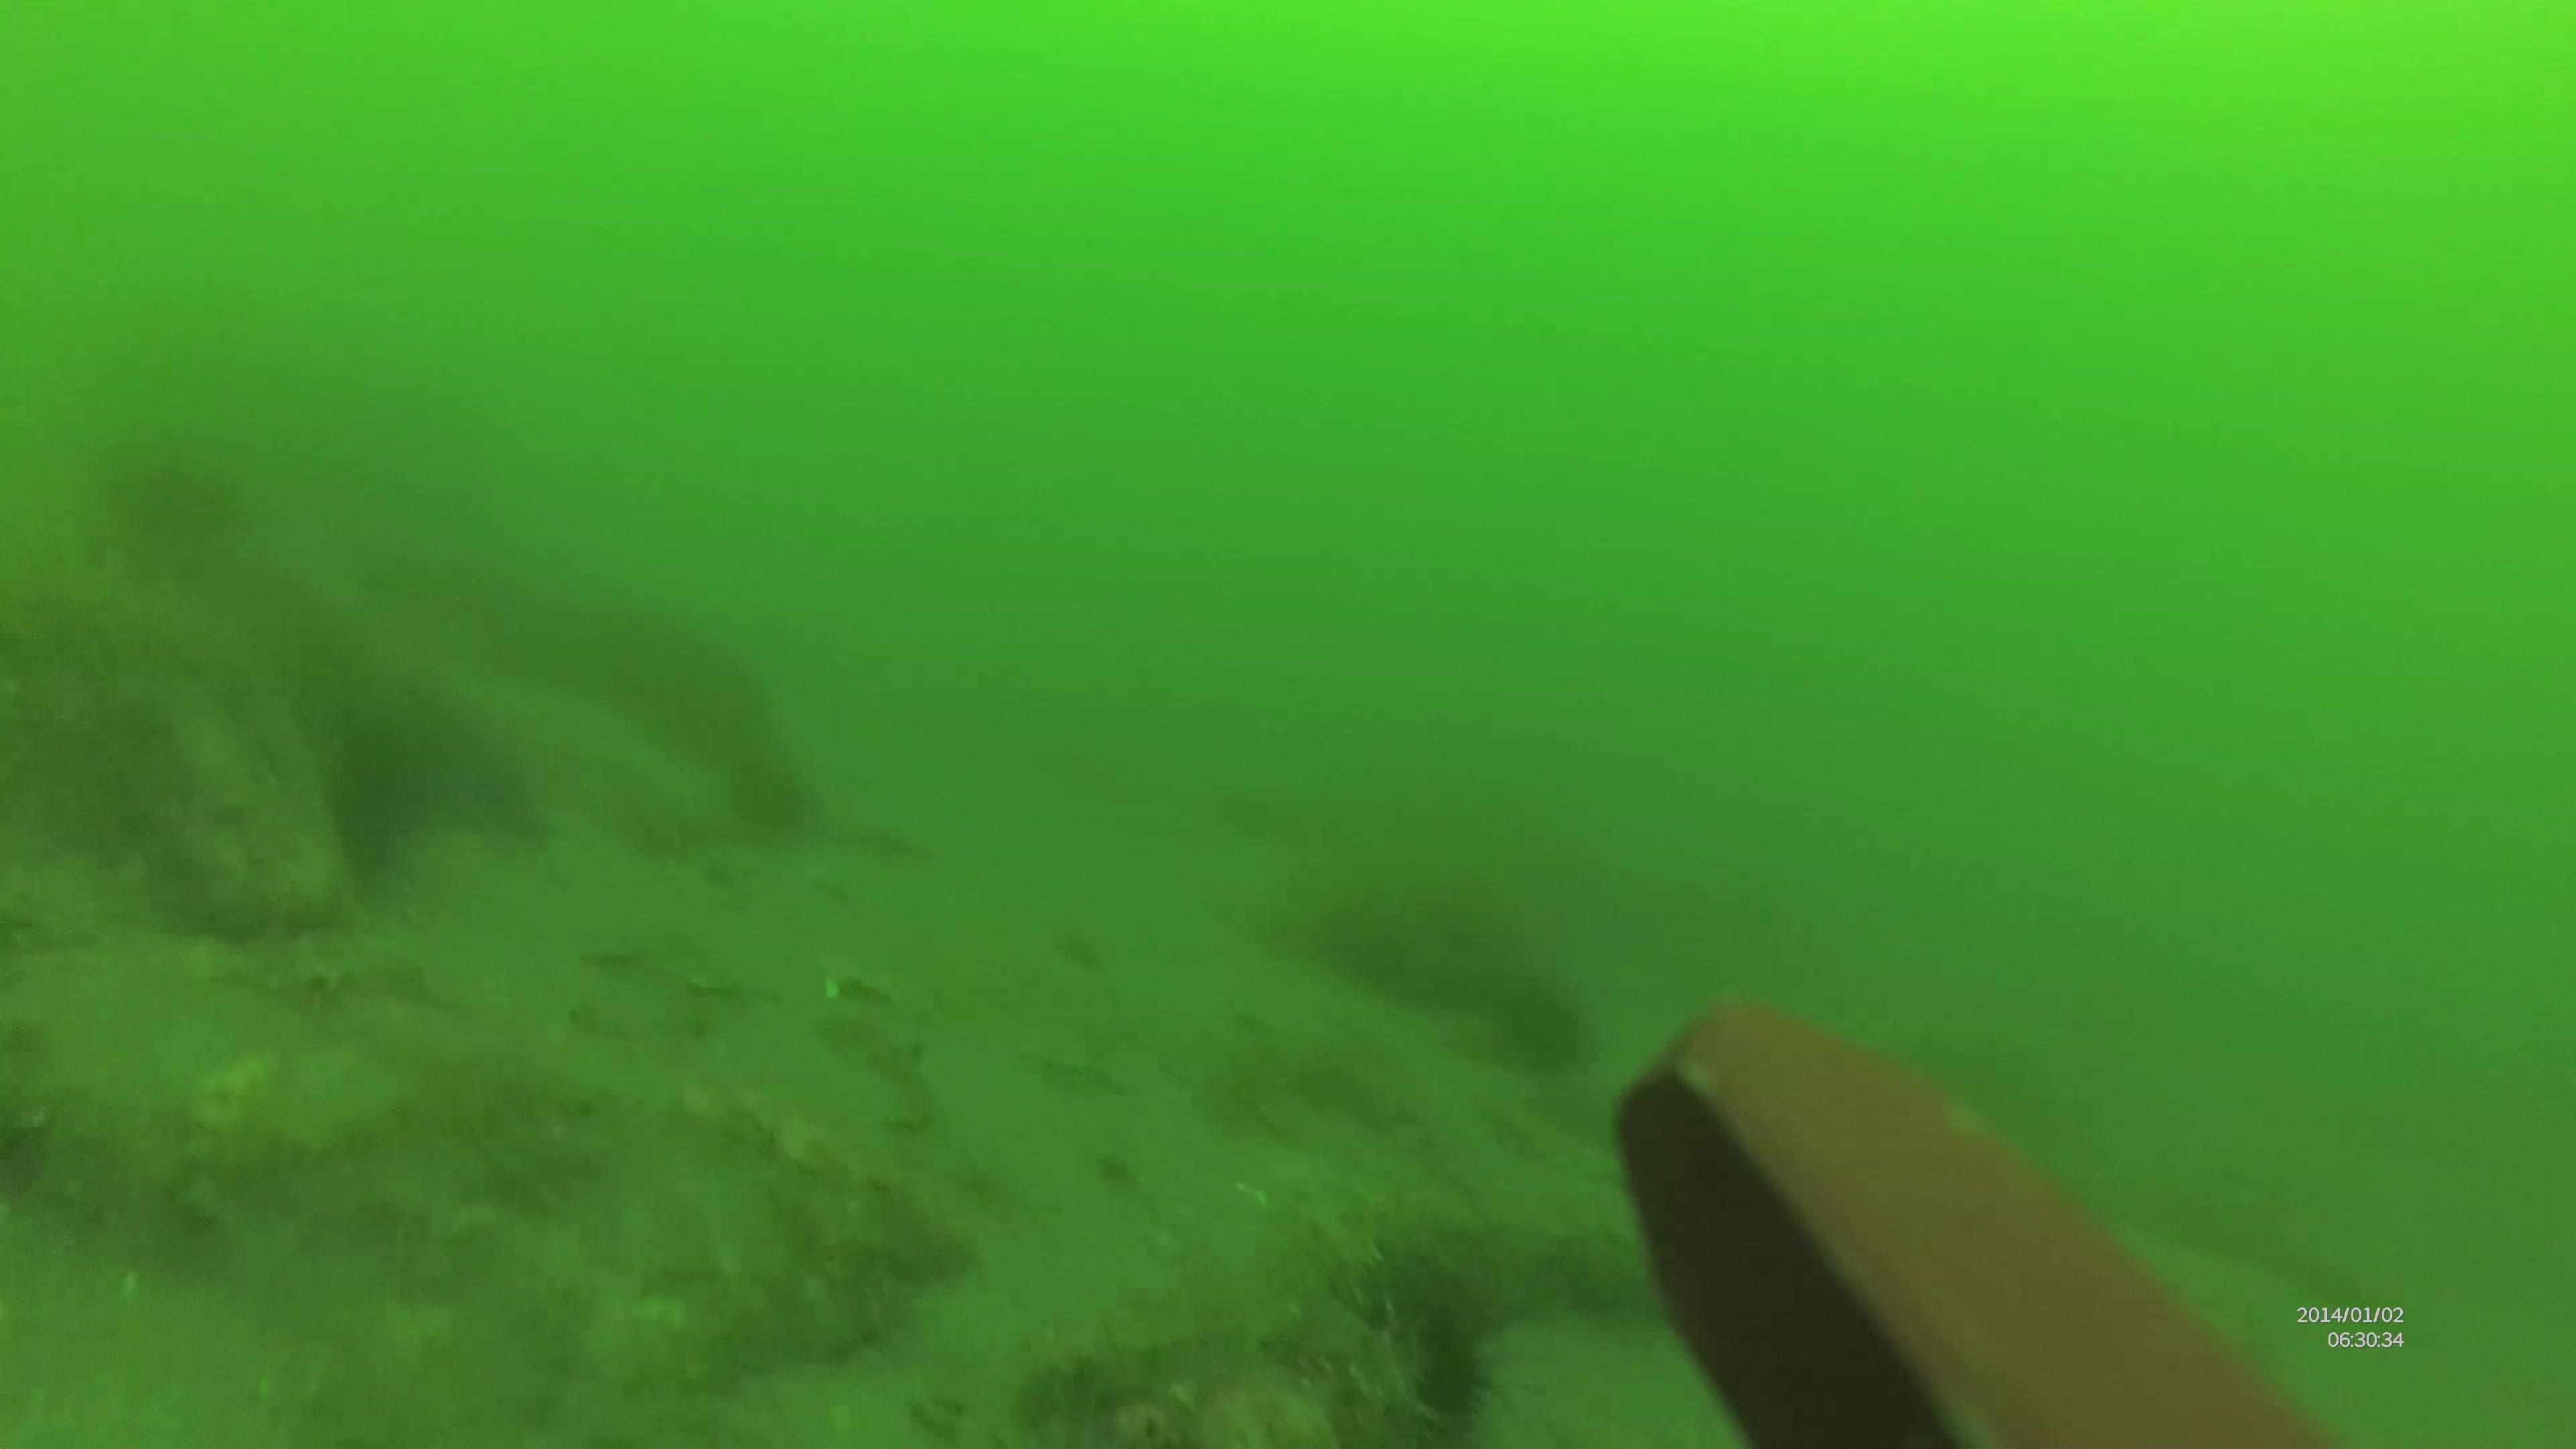echinus: (1401, 1302, 1497, 1449)
